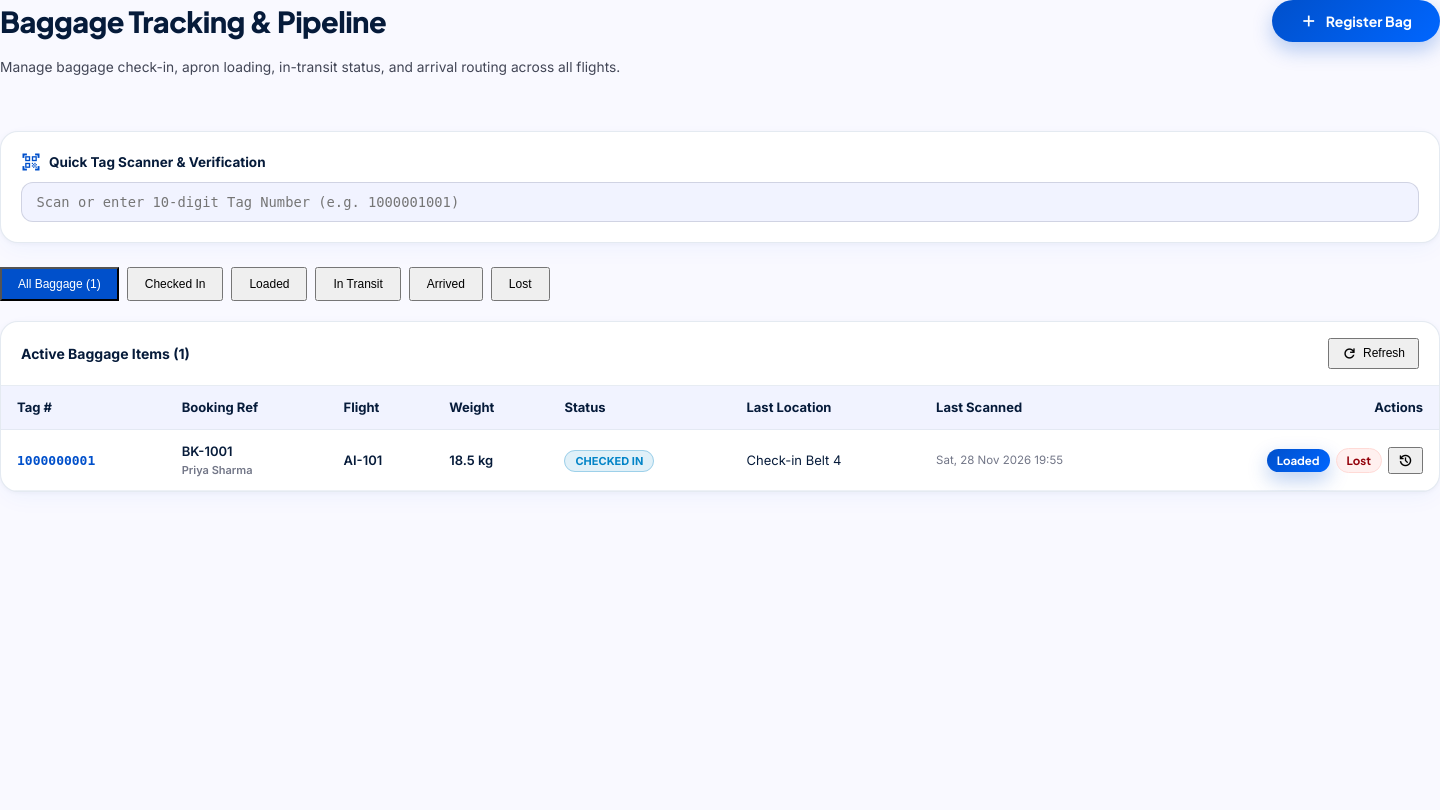
it: Task 16c Part B: Admin Pages Dialogs & Action Buttons (RTL + jsdom) › 3. Baggage Management Modal (Register Bag) › opens and closes Register Bag modal upon clicking the button
Check: the heading "Baggage Tracking & Pipeline" is shown, box x1=0 y1=3 x2=386 y2=39
// Click Register Bag
Click the button "Register Bag" at (1356, 21), box x1=1272 y1=0 x2=1439 y2=42
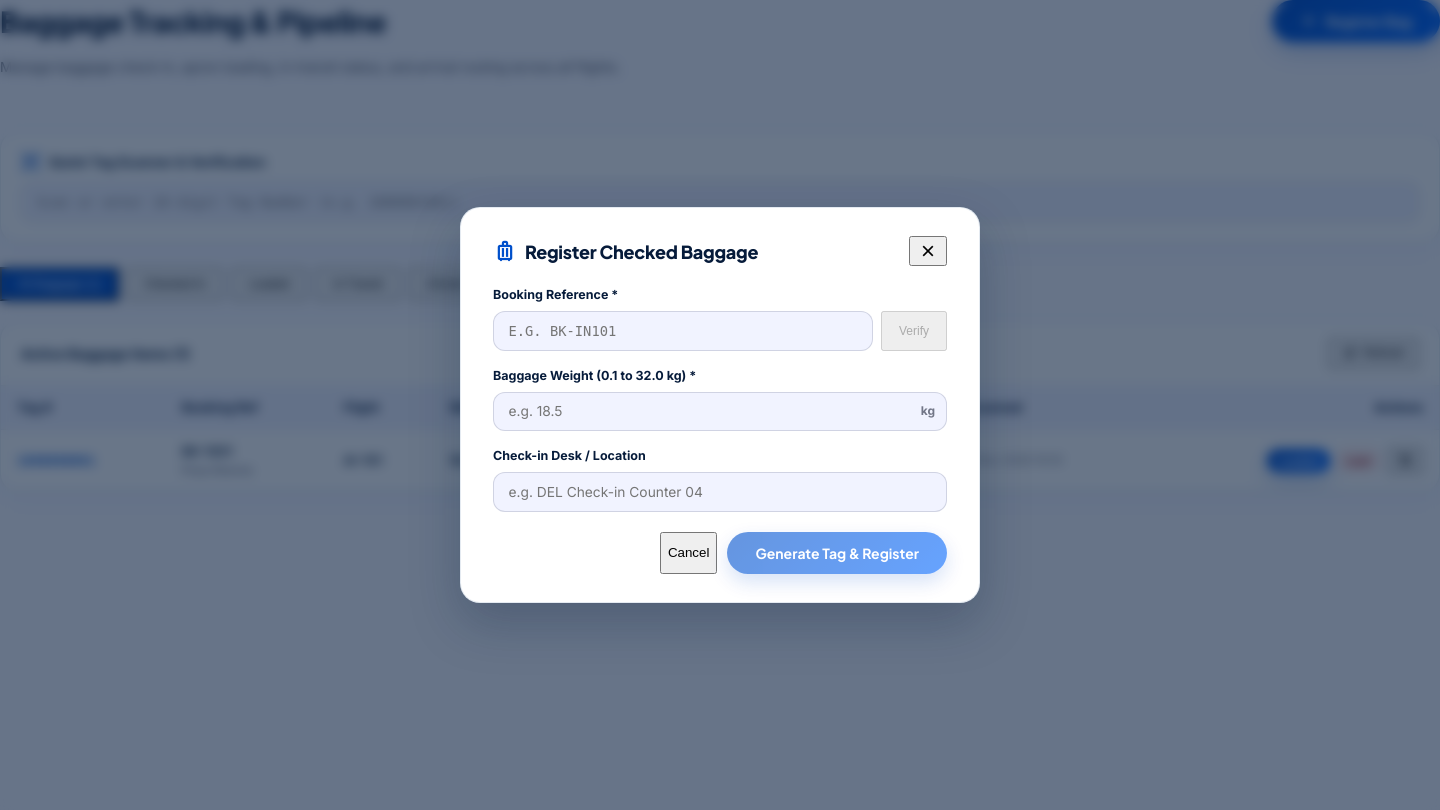
Check: the heading "Register Checked Baggage" is shown, box x1=525 y1=238 x2=758 y2=265
Check: the element with class "modal-backdrop" is shown
// Close via Cancel button in dialog (or close 'X' button)
Click the button named "close" at (928, 251), box x1=909 y1=236 x2=947 y2=266
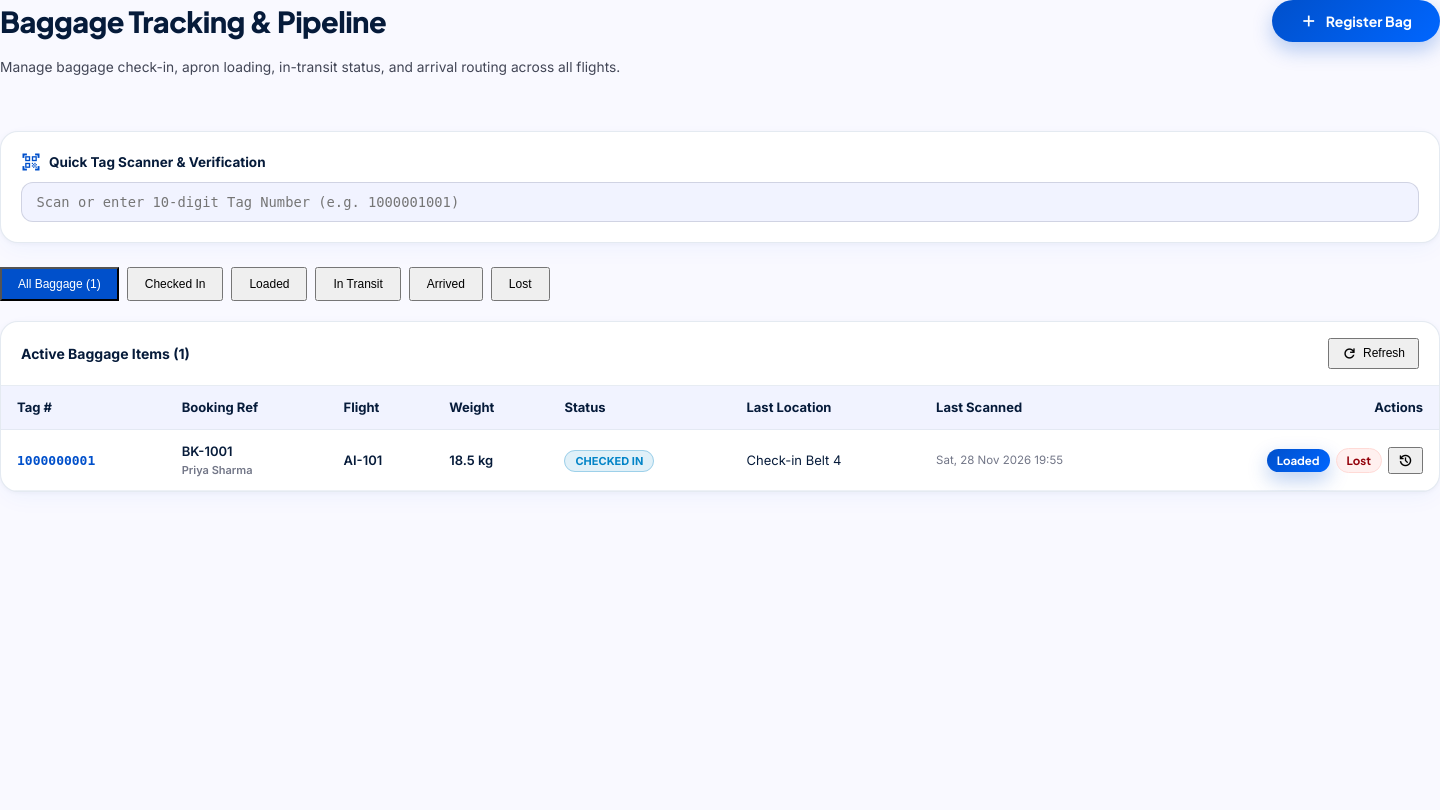
Check: the heading "Register Checked Baggage" is gone
